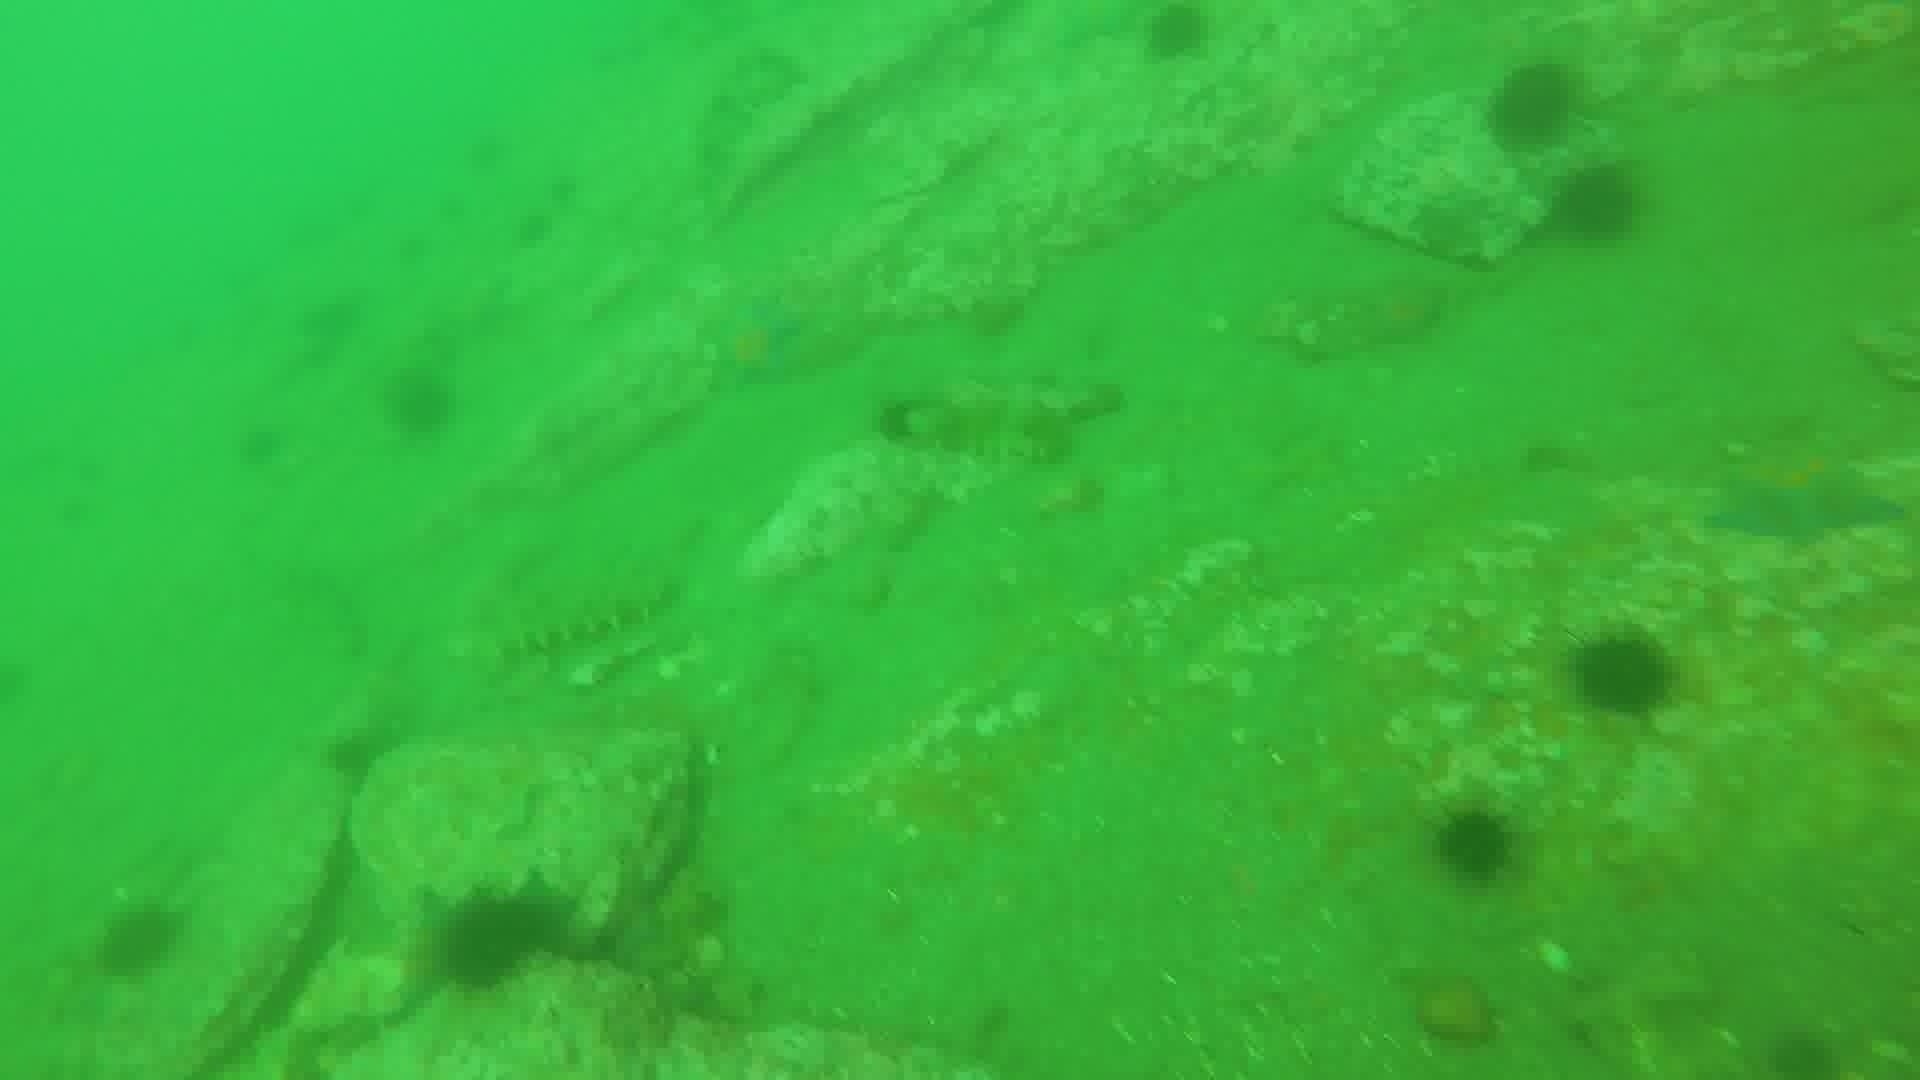echinus: (433, 885, 568, 997), (1567, 626, 1680, 723), (1482, 61, 1582, 154), (1551, 161, 1647, 248), (92, 898, 186, 982), (1429, 803, 1520, 887), (381, 363, 460, 440), (1137, 3, 1217, 66), (320, 724, 394, 790), (1762, 1025, 1844, 1080), (232, 418, 291, 473), (858, 398, 915, 454), (512, 207, 558, 252)
holothurian: (459, 556, 687, 665), (902, 376, 1121, 468)
starfish: (1702, 438, 1903, 551), (698, 291, 808, 394)
